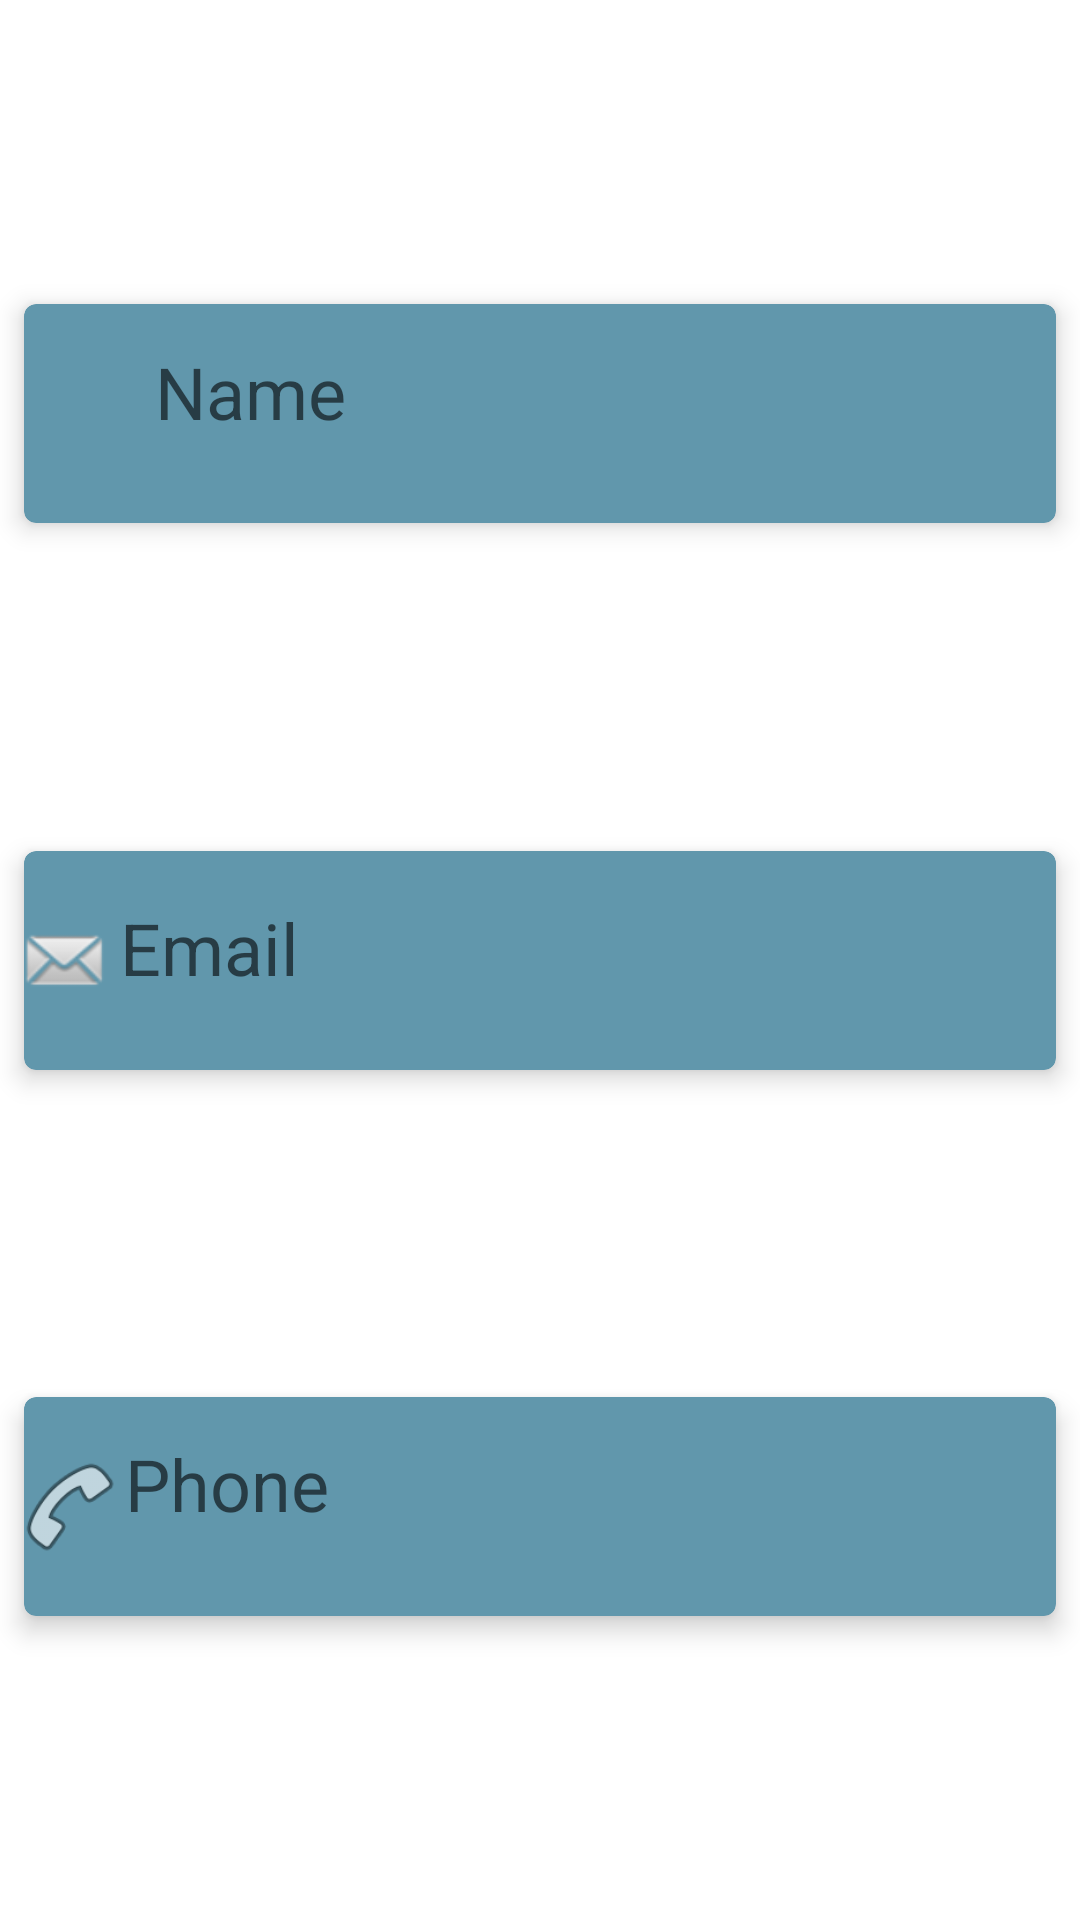

Named icons in this screenshot (1080*1920) and their centers, (x,y):
call: (70,1507)
